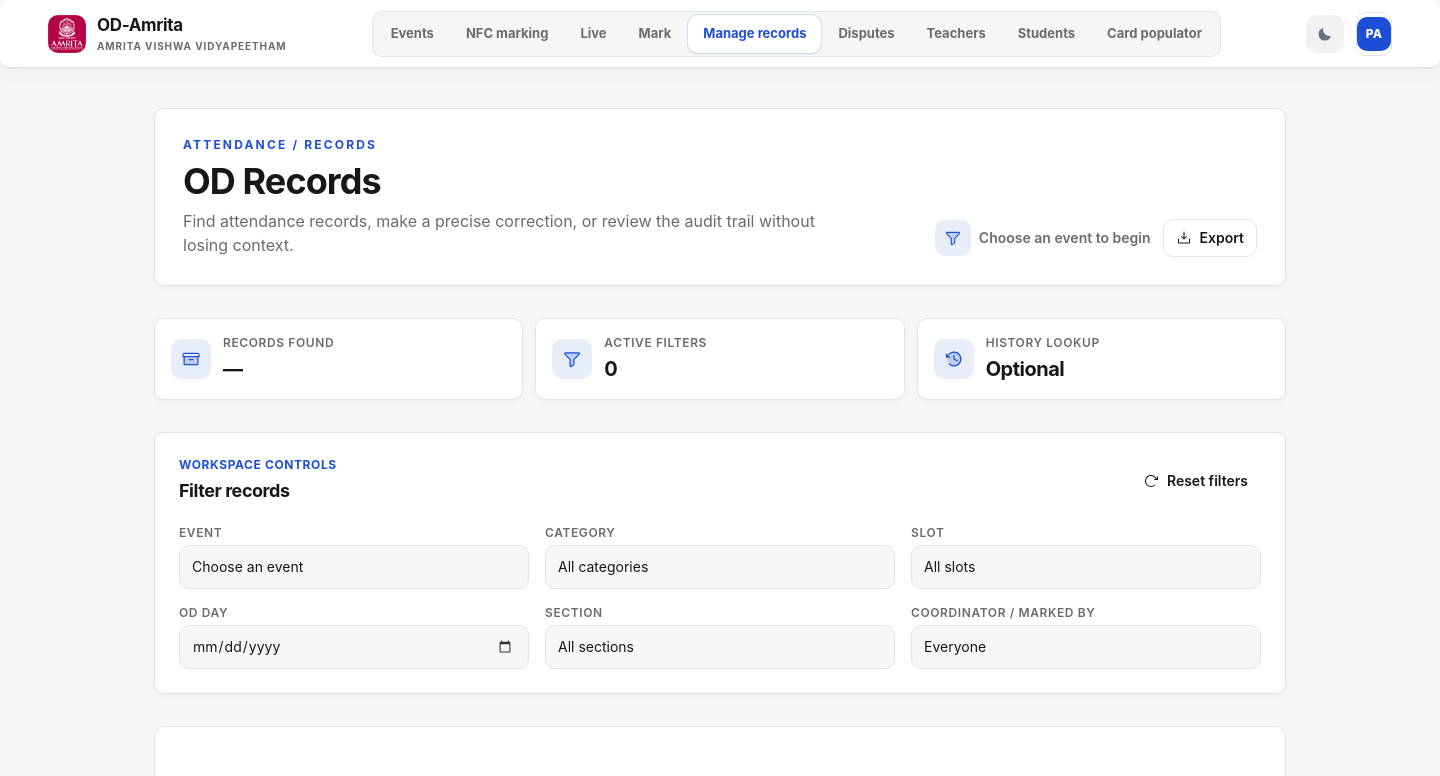
Test: the on-duty export › [P0] export opens before the records page has an event selected
Click the button with aria-label "export on-duty lists".
click(1210, 238)  # box [1162,219,1257,257]
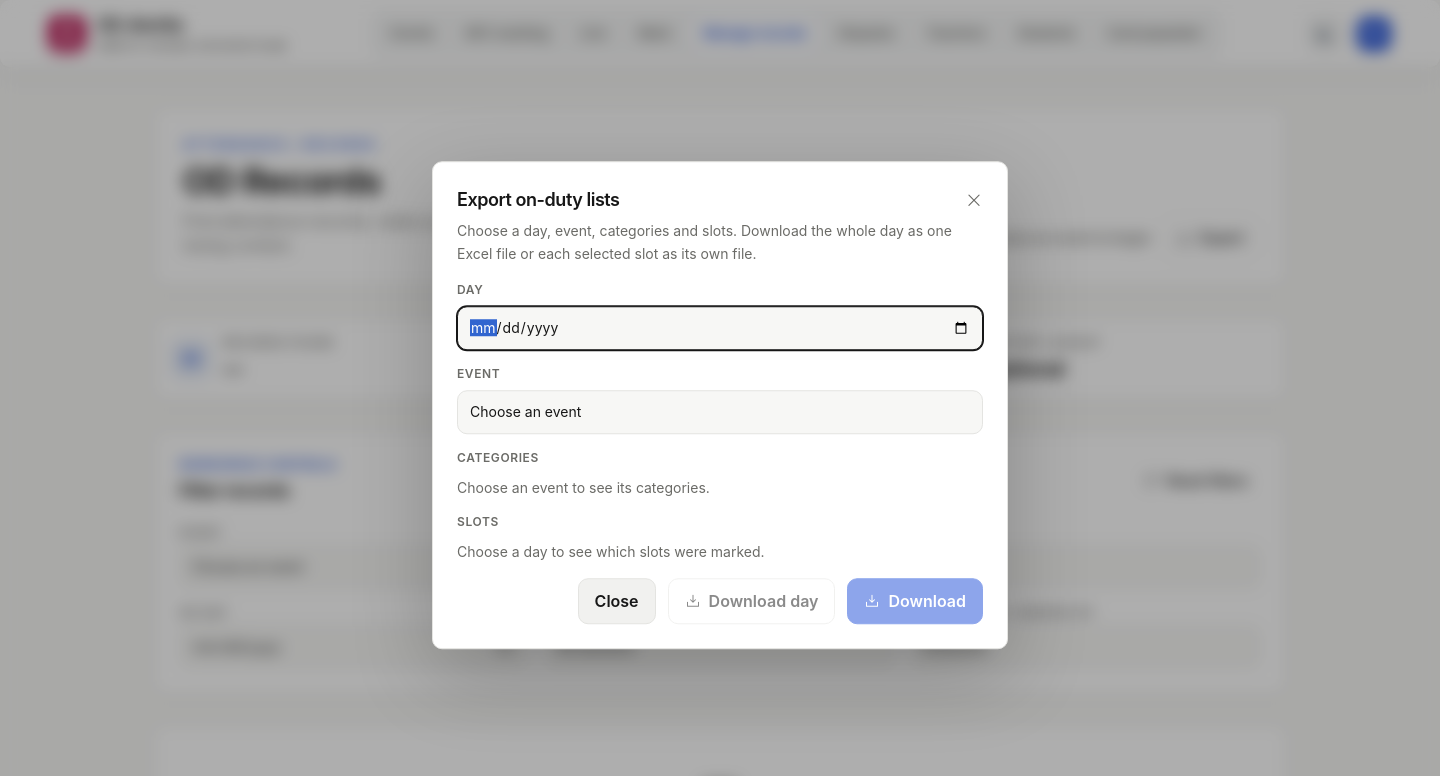
Expected: the date field labelled "Day" is shown, [457,306,983,350]
Expected: the dropdown labelled "Event" is shown, [457,390,983,434]
Expected: the text "Choose an event to see its categories." is shown, [457,479,710,496]
